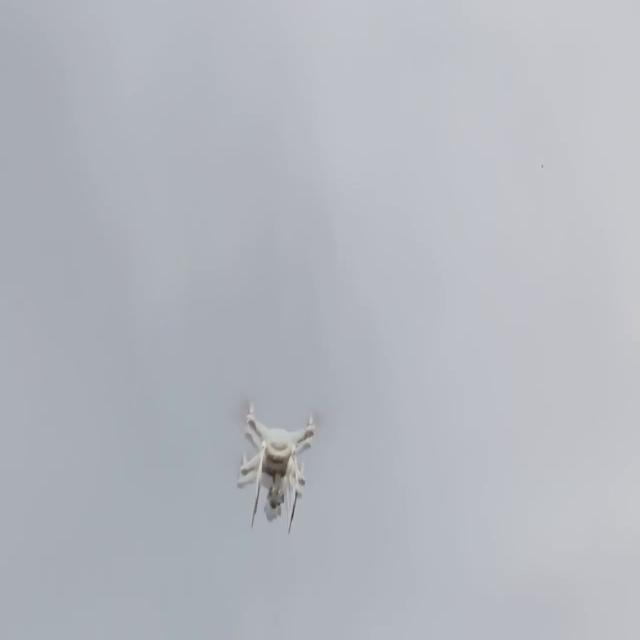drone: (228, 398, 325, 524)
